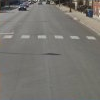crosswalk: (3, 34, 96, 39)
